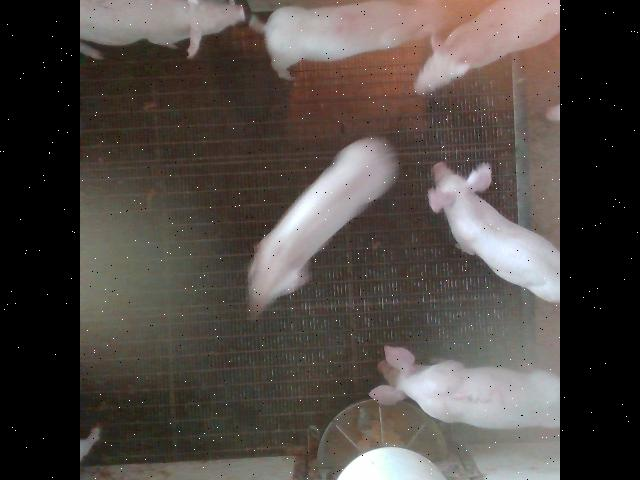pig-3: (369, 345, 558, 428)
pig-4: (265, 0, 442, 75)
